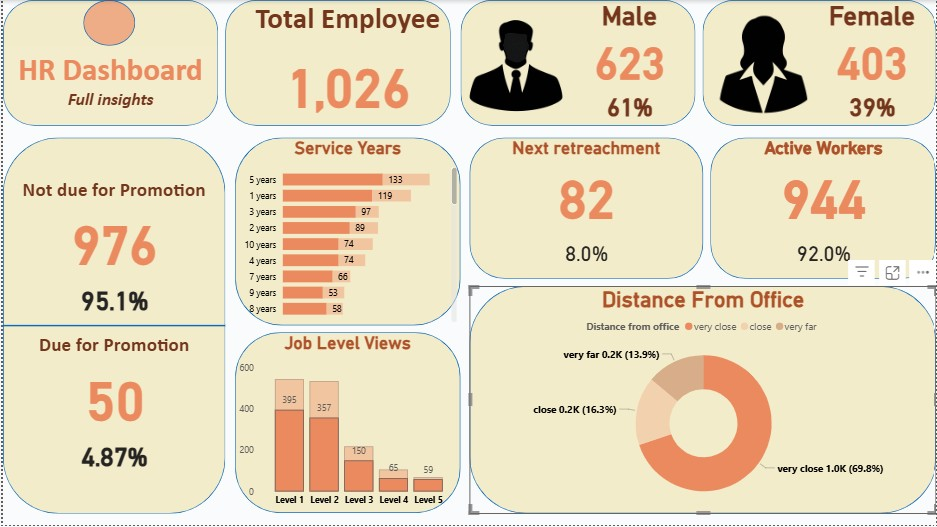

This screenshot's page, from the dashboard's own definition file:
{"tool":"powerbi","page":{"name":"HR Analyist","canvas":[1280,720],"ordinal":0},"visuals":[{"type":"shape","box":[0,0,294.8,172.3],"z":0},{"type":"shape","box":[304.8,0,309.1,172.3],"z":1000},{"type":"shape","box":[626.7,0,321.9,172.3],"z":2000},{"type":"shape","box":[317.6,455.8,309.1,247.8],"z":3000},{"type":"shape","box":[969.9,188,310.5,193.7],"z":4000},{"type":"shape","box":[958.5,0,321.9,172.3],"z":5000},{"type":"shape","box":[317.6,188,309.1,257.8],"z":6000},{"type":"shape","box":[639.5,188,320.5,193.7],"z":7000},{"type":"shape","box":[0,188,304.8,515.6],"z":8000},{"type":"shape","box":[639.5,391.7,640.9,311.9],"z":9000},{"type":"textbox","box":[0,62.7,294.8,109.7],"z":10000},{"type":"shape","box":[109.7,0,71.2,62.7],"z":11000},{"type":"card","title":"Total Employee","fields":{"Values":["All measures.Total_Emp"]},"box":[317.6,0,309.1,172.3],"z":12000},{"type":"card","title":"Male","fields":{"Values":["All measures.Males"]},"box":[769.1,0,179.5,116.8],"z":13000},{"type":"card","title":"Female","fields":{"Values":["All measures.Females"]},"box":[1102.4,0,178,116.8],"z":14000},{"type":"card","fields":{"Values":["All measures.Male %"]},"box":[769.1,116.8,179.5,55.5],"z":15000},{"type":"card","fields":{"Values":["All measures.Females %"]},"box":[1102.4,116.8,178,55.5],"z":16000},{"type":"image","box":[626.6,5.3,151.7,166.3],"z":17000},{"type":"image","box":[960.5,4,163.6,169],"z":18000},{"type":"shape","box":[0,188,304.8,515.6],"z":19000},{"type":"card","fields":{"Values":["All measures.% Due for Promotion"]},"box":[0,589.6,304.8,65.5],"z":20000},{"type":"card","title":"Due for Promotion","fields":{"Values":["All measures.Due for promotion"]},"box":[0,455.8,304.8,133.9],"z":21000},{"type":"card","fields":{"Values":["All measures.% Not Due Promotion"]},"box":[0,376.3,304.8,65.5],"z":22000},{"type":"card","title":"Not due for Promotion","fields":{"Values":["All measures.Not due promotion"]},"box":[0,242.4,304.8,133.9],"z":23000},{"type":"card","title":"Active Workers","fields":{"Values":["All measures.On service"]},"box":[969.9,188,310.5,121.1],"z":24000},{"type":"card","title":"Active Workers","fields":{"Values":["All measures.On service"]},"box":[969.5,188,310.5,121.1],"z":25000},{"type":"card","title":"Next retreachment","fields":{"Values":["All measures.Will be retrenched"]},"box":[639.5,188,320.5,121.1],"z":26000},{"type":"card","fields":{"Values":["All measures.% will be retreachment"]},"box":[639.5,309.1,320.5,72.6],"z":27000},{"type":"card","fields":{"Values":["All measures.% on service"]},"box":[969.9,309.1,310.5,72.6],"z":28000},{"type":"donutChart","title":"Distance From Office","fields":{"Category":["HR Analytics Data2.Distance from office"],"Y":["All measures.Total_Emp"]},"box":[639.5,391.7,640.9,311.9],"z":29000},{"type":"clusteredBarChart","title":"Service Years","fields":{"Category":["HR Analytics Data2.Years_at_company"],"Y":["All measures.Total_Emp"]},"box":[317.6,188,309.1,257.8],"z":30000},{"type":"columnChart","title":"Job Level Views","fields":{"Category":["HR Analytics Data2.Job_level"],"Y":["All measures.Total_Emp"]},"box":[317.6,455.8,309.1,247.8],"z":31000}]}

Visuals, with their boxes in screenshot pixels (x1, y1, x2, y2), scaled from the page's 1280x720 canvas onto the 937x527 screenshot:
shape: 0, 0, 216, 126
shape: 223, 0, 449, 126
shape: 459, 0, 694, 126
shape: 232, 334, 459, 515
shape: 710, 138, 936, 279
shape: 702, 0, 936, 126
shape: 232, 138, 459, 326
shape: 468, 138, 703, 279
shape: 0, 138, 223, 515
shape: 468, 287, 936, 515
textbox: 0, 46, 216, 126
shape: 80, 0, 132, 46
"Total Employee" card: 232, 0, 459, 126
"Male" card: 563, 0, 694, 85
"Female" card: 807, 0, 936, 85
card - All measures.Male %: 563, 85, 694, 126
card - All measures.Females %: 807, 85, 936, 126
image: 459, 4, 570, 126
image: 703, 3, 823, 127
shape: 0, 138, 223, 515
card - All measures.% Due for Promotion: 0, 432, 223, 479
"Due for Promotion" card: 0, 334, 223, 432
card - All measures.% Not Due Promotion: 0, 275, 223, 323
"Not due for Promotion" card: 0, 177, 223, 275
"Active Workers" card: 710, 138, 936, 226
"Active Workers" card: 710, 138, 936, 226
"Next retreachment" card: 468, 138, 703, 226
card - All measures.% will be retreachment: 468, 226, 703, 279
card - All measures.% on service: 710, 226, 936, 279
"Distance From Office" donutChart: 468, 287, 936, 515
"Service Years" clusteredBarChart: 232, 138, 459, 326
"Job Level Views" columnChart: 232, 334, 459, 515
